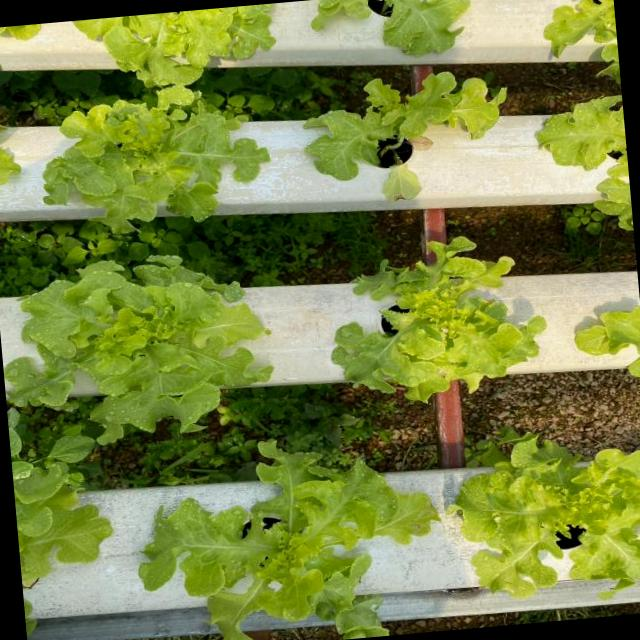Lettuce-Not-Ready-to-Harvest: (139, 441, 437, 640), (3, 255, 269, 442), (332, 236, 545, 401), (42, 86, 268, 231), (454, 438, 640, 598), (305, 72, 506, 201), (7, 409, 111, 586), (73, 4, 274, 85), (537, 96, 633, 229), (544, 0, 620, 81), (382, 0, 469, 55)
